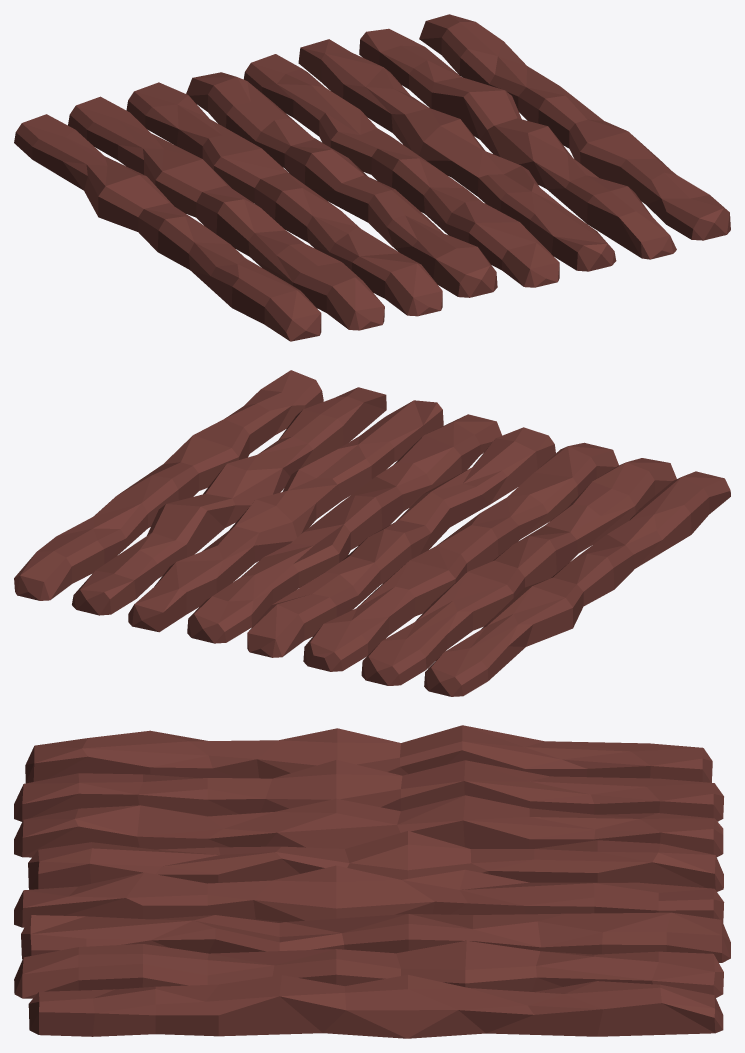
Rendered from Field_01.fbx.
3 views of the same model, one above another, from view 1: azimuth 30°, elevation 25°; view 2: azimuth 150°, elevation 25°; view 3: azimuth 270°, elevation 25° (orthographic). The views are drawn at different scales.
Visible parts, largest first — view 1: Field_01.001, Field_01, Field_01.005, Field_01.002, Field_01.006, Field_01.004, Field_01.007, Field_01.003; view 2: Field_01, Field_01.001, Field_01.005, Field_01.004, Field_01.002, Field_01.006, Field_01.003, Field_01.007; view 3: Field_01.007, Field_01.004, Field_01.002, Field_01.006, Field_01.001, Field_01, Field_01.005, Field_01.003.
Boxes of the visible parts, x1,y1,x2,y2 form: Field_01.001: (68,96,384,330); Field_01: (14,114,321,341); Field_01.005: (298,39,616,271); Field_01.002: (126,82,442,316); Field_01.006: (359,28,676,259); Field_01.004: (243,54,559,287); Field_01.007: (419,14,730,240); Field_01.003: (186,72,497,297); Field_01: (424,471,730,696); Field_01.001: (361,458,676,685); Field_01.005: (128,400,443,632); Field_01.004: (187,414,501,643); Field_01.002: (303,442,618,671); Field_01.006: (72,387,386,615); Field_01.003: (247,427,555,657); Field_01.007: (14,370,323,600); Field_01.007: (28,975,723,1038); Field_01.004: (14,865,724,927); Field_01.002: (14,795,723,857); Field_01.006: (14,940,723,998); Field_01.001: (14,760,723,821); Field_01: (25,725,712,783); Field_01.005: (21,912,730,962); Field_01.003: (28,831,723,891).
Bounding box in the file's own units: 941 × 65.49 × 1011.
